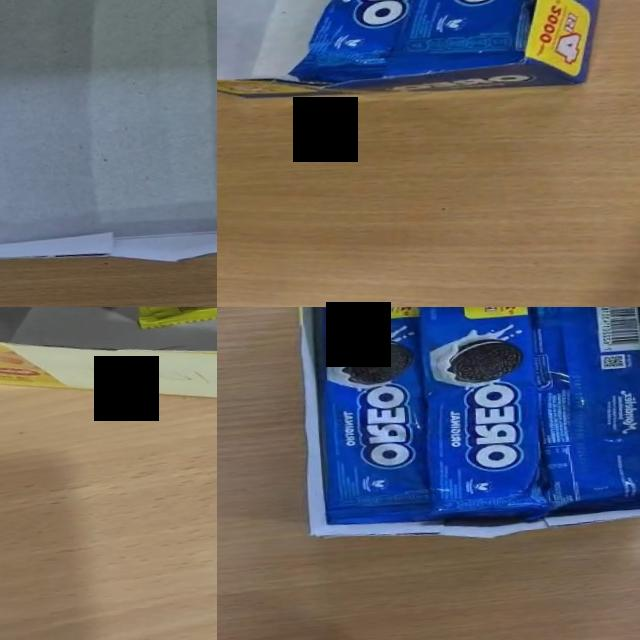Oreo: (403, 307, 551, 523), (306, 307, 433, 527), (524, 307, 640, 516), (363, 0, 602, 79), (272, 0, 490, 86)
